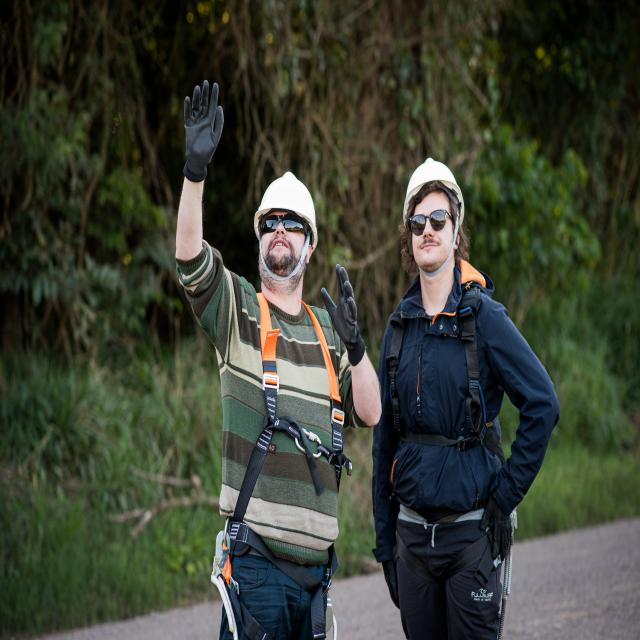capacete: (250, 168, 319, 253), (399, 154, 466, 232)
corda de vida: (210, 286, 354, 640), (385, 274, 522, 594)
luva: (318, 260, 369, 369), (180, 73, 226, 184), (476, 484, 516, 562)
